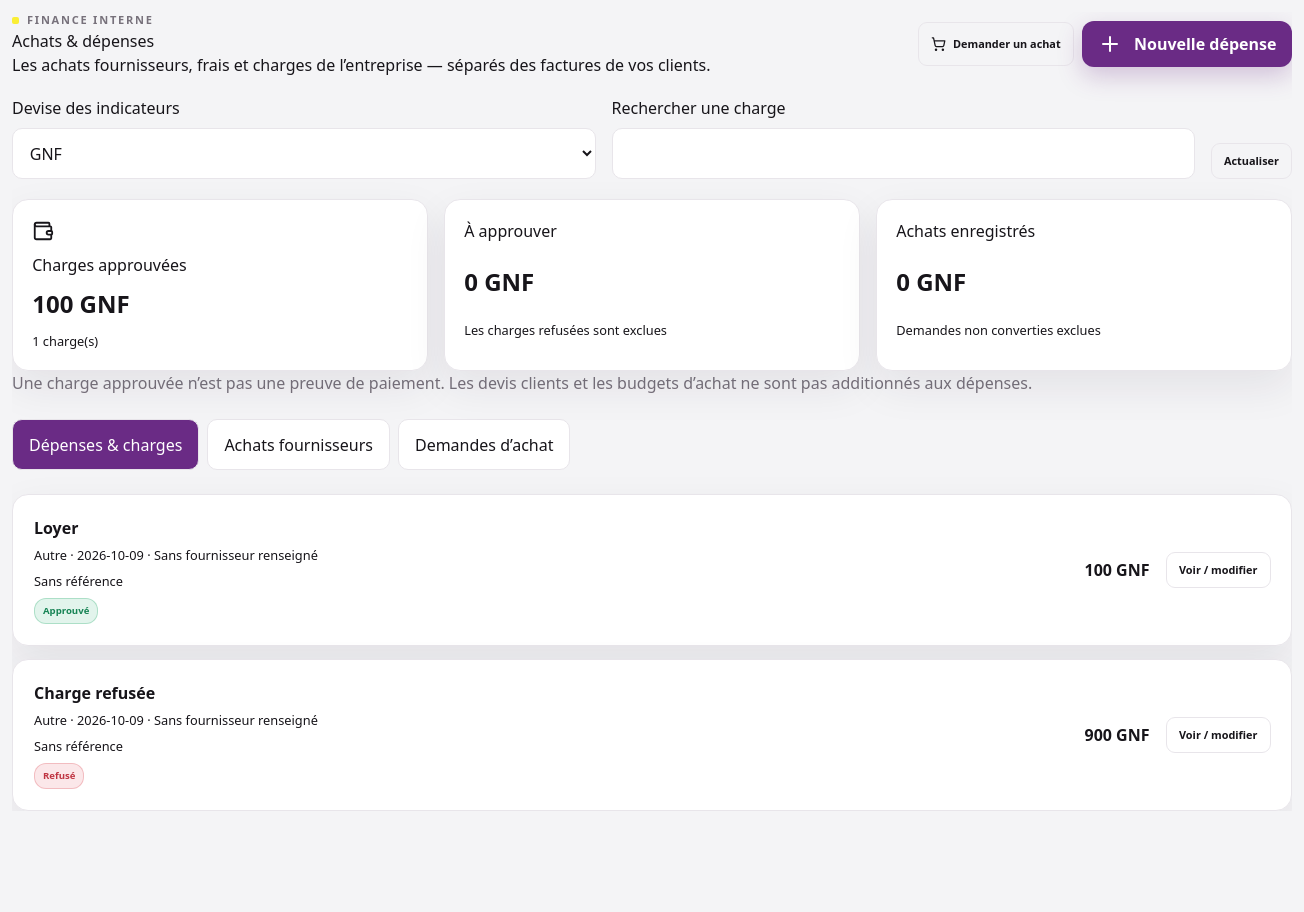
it: registre achats et dépenses › sépare les devises et exclut les refus et les budgets des charges approuvées
Expected: the text "Loyer" is shown, [34, 518, 78, 540]
Expected: the text "Logiciel" is not shown
Select "EUR" in the dropdown labelled "Devise des indicateurs": coordinates (304, 154) [12, 128, 596, 179]
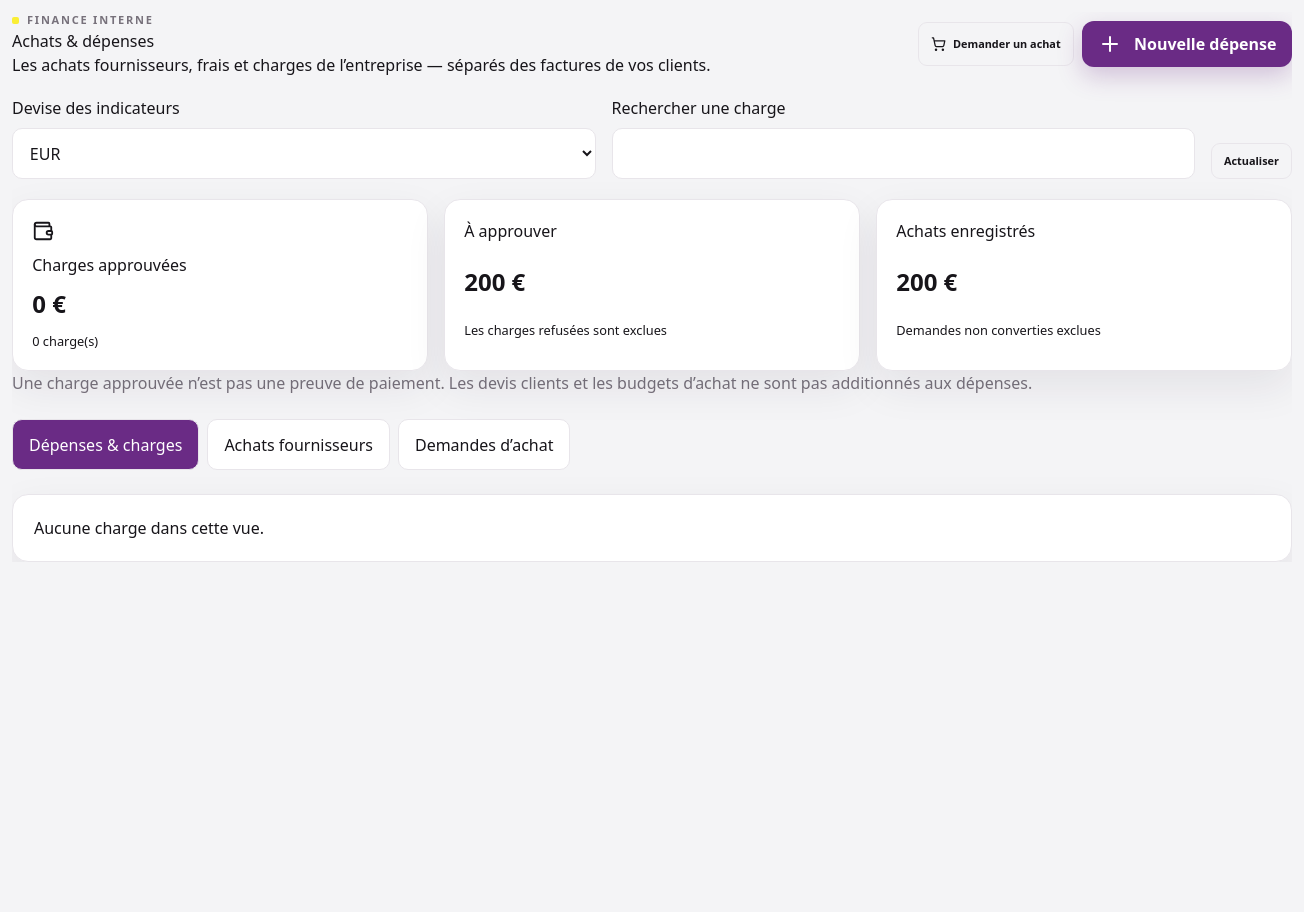
Click the button "Achats fournisseurs": coordinates (299, 445) [207, 419, 390, 470]
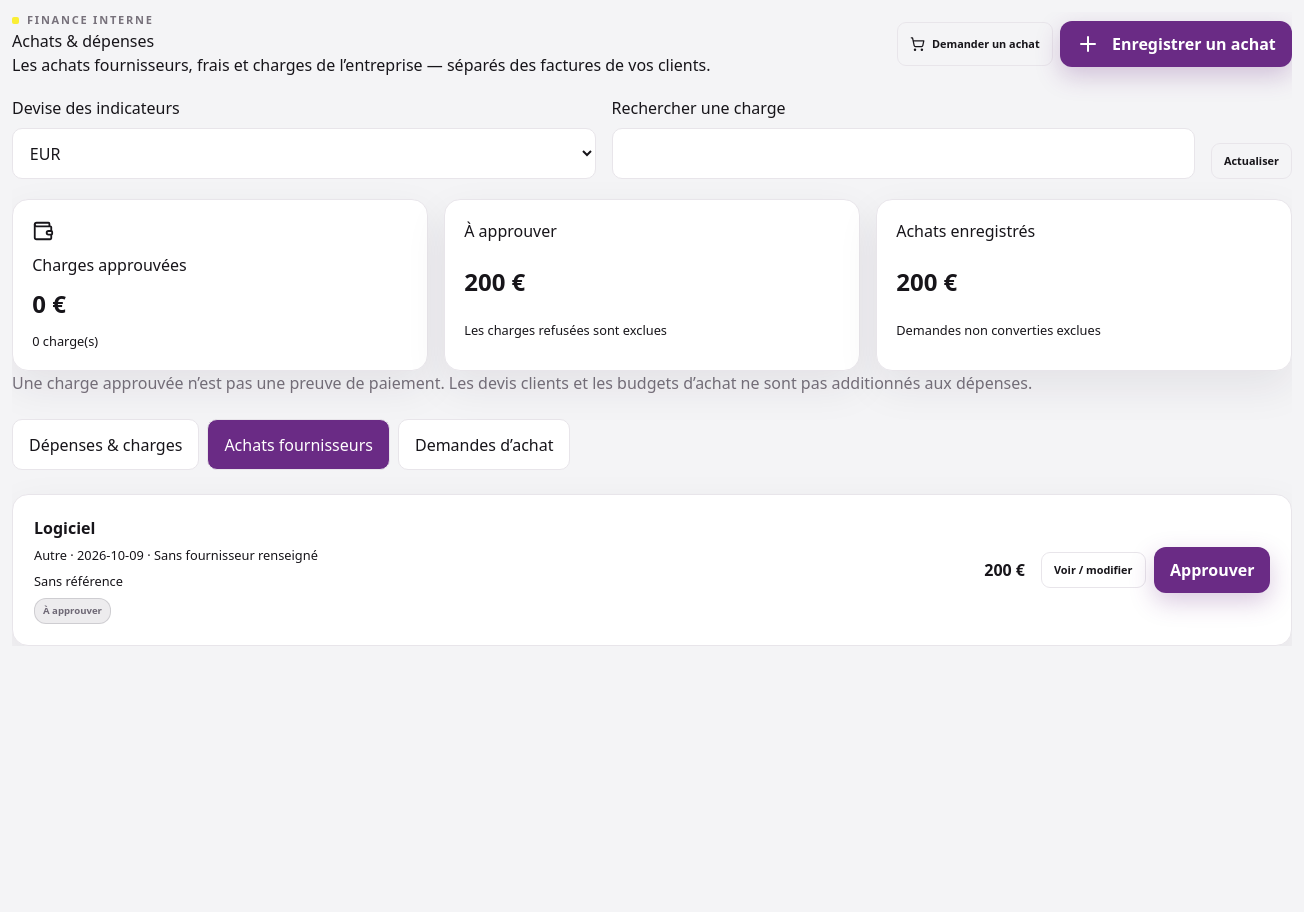
Expected: the text "Loyer" is not shown
Expected: the text "Logiciel" is shown, [34, 518, 95, 540]
